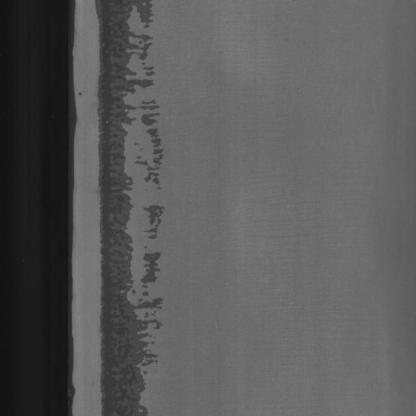oil_spot: (93, 4, 167, 416)
